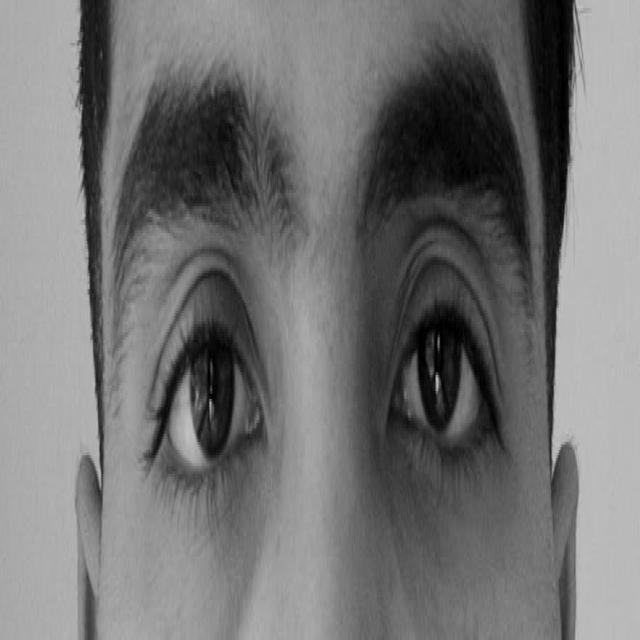real: (134, 138, 529, 562)
